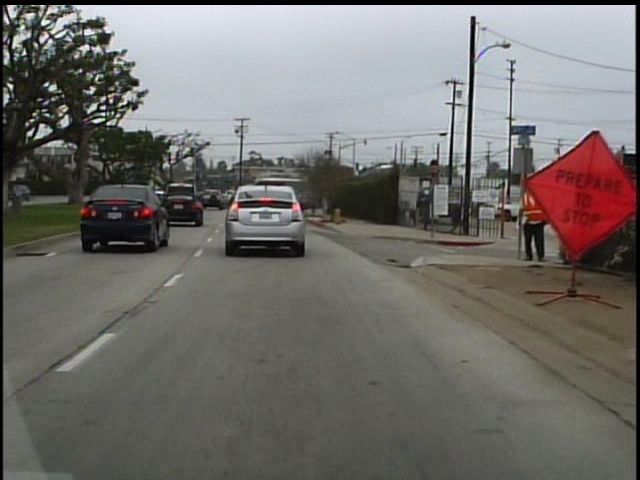person: (510, 174, 549, 264)
